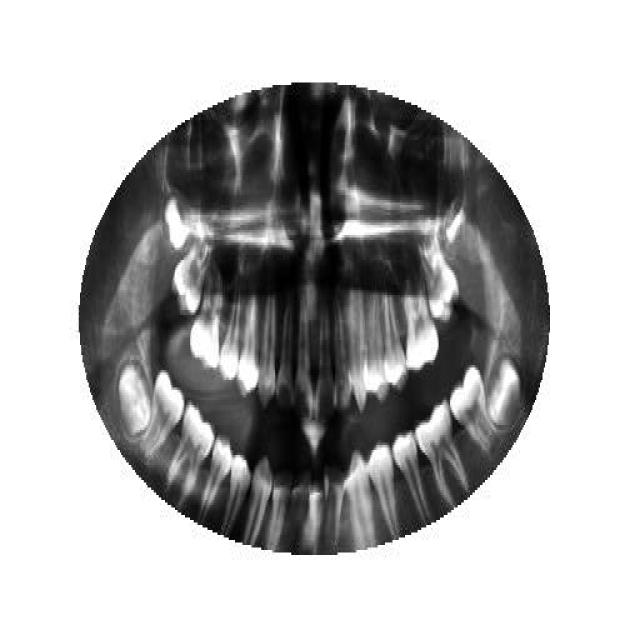Impacted Tooth: (115, 355, 154, 443), (486, 353, 524, 435)
